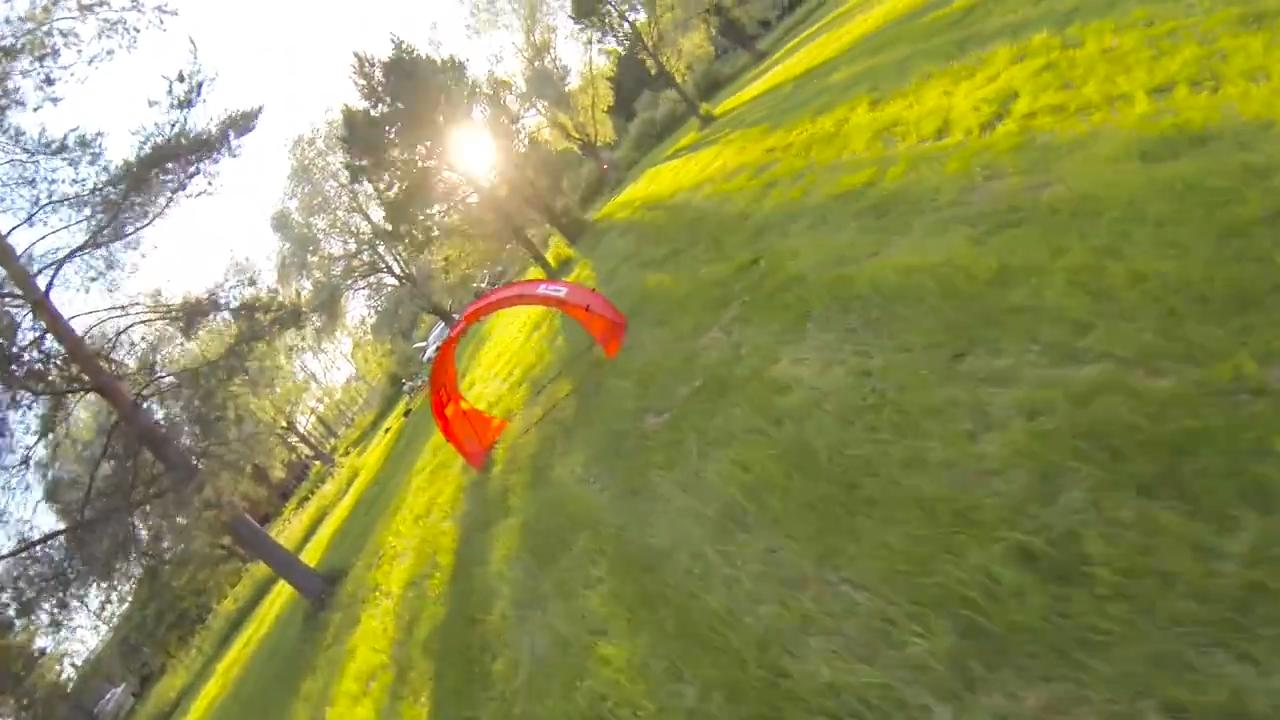gate: (422, 276, 626, 472)
